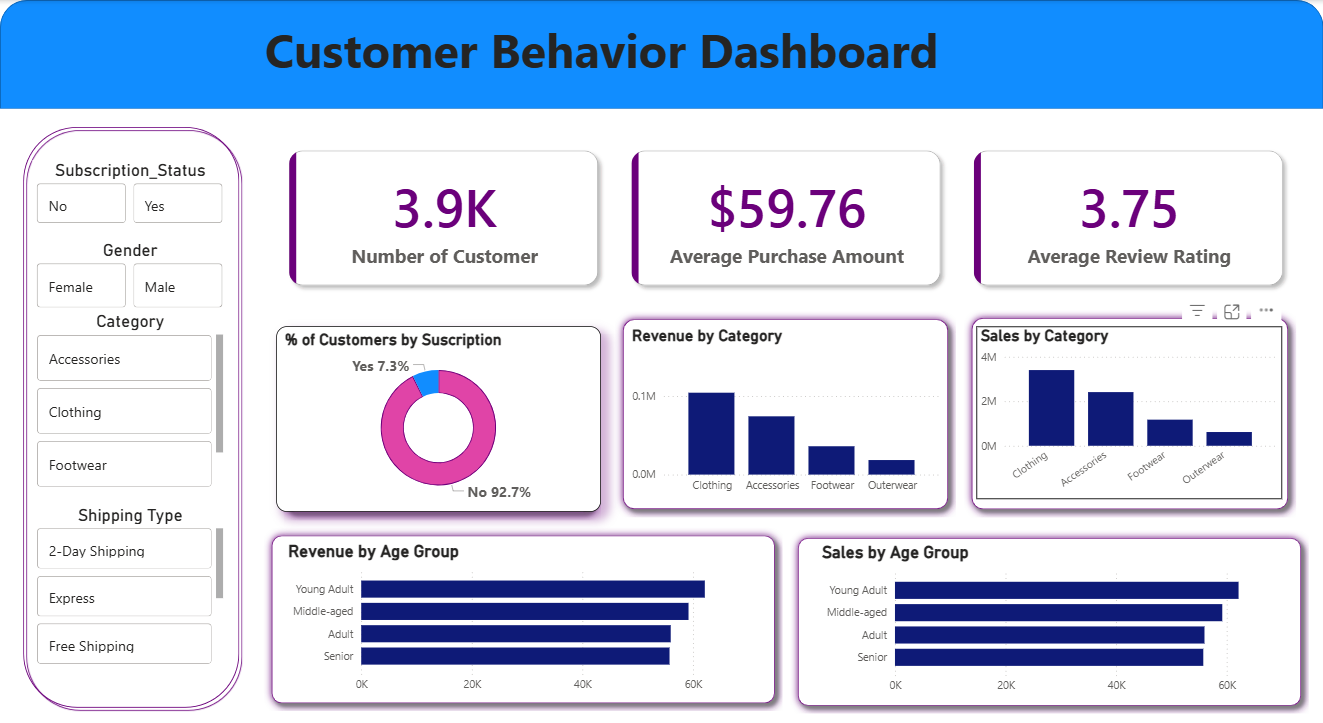

What the dashboard file says about the page in this screenshot:
{"tool":"powerbi","page":{"name":"Page 1","canvas":[1500,820],"ordinal":0},"visuals":[{"type":"cardVisual","fields":{"Data":["public customer.Number of Customer","public customer.Average Purchase Amount","public customer.Average Review Rating"]},"box":[298.3,141.7,1185,211.7],"z":0},{"type":"shape","box":[0,0,1500,123.3],"z":1000},{"type":"textbox","box":[83.3,0,1196.7,123.3],"z":2000},{"type":"shape","box":[313.3,370,368.3,220],"z":3000},{"type":"donutChart","title":"% of Customers by Suscription","fields":{"Category":["public customer.subscription_status"],"Y":["Sum(public customer.customer_id)"]},"box":[313.3,370,368.3,210],"z":4000},{"type":"shape","box":[1091.7,351.7,376.7,235],"z":5000},{"type":"shape","box":[696.7,353.3,386.7,233.3],"z":6000},{"type":"clusteredColumnChart","title":"Revenue by Category","fields":{"Category":["public customer.category"],"Y":["Sum(public customer.purchase_amount)"]},"box":[711.7,370,360,198.3],"z":7000},{"type":"clusteredColumnChart","title":"Sales by Category","fields":{"Category":["public customer.category"],"Y":["Sum(public customer.customer_id)"]},"box":[1106.7,370,346.7,196.7],"z":8000},{"type":"shape","box":[21.7,138.3,255,668.3],"z":9000},{"type":"advancedSlicerVisual","title":"Subscription_Status","fields":{"Values":["public customer.subscription_status"]},"box":[36.7,181.7,221.7,76.7],"z":10000},{"type":"advancedSlicerVisual","title":"Gender","fields":{"Values":["public customer.gender"]},"box":[36.7,271.7,221.7,81.7],"z":11000},{"type":"advancedSlicerVisual","title":"Category","fields":{"Values":["public customer.category"]},"box":[36.7,353.3,221.7,205],"z":12000},{"type":"advancedSlicerVisual","title":"Shipping  Type","fields":{"Values":["public customer.shipping_type"]},"box":[36.7,571.7,221.7,188.3],"z":13000},{"type":"shape","box":[298.3,598.3,588.3,208.3],"z":14000},{"type":"clusteredBarChart","title":"Revenue by Age Group","fields":{"Category":["public customer.age_group"],"Y":["Sum(public customer.purchase_amount)"]},"box":[321.7,613.3,541.7,180],"z":15000},{"type":"shape","box":[895,600,588.3,208.3],"z":16000},{"type":"clusteredBarChart","title":"Sales by Age Group","fields":{"Category":["public customer.age_group"],"Y":["Sum(public customer.purchase_amount)"]},"box":[926.7,615,541.7,180],"z":17000}]}

Visuals, with their boxes in screenshot pixels (x1, y1, x2, y2), scaled from the page's 1500x820 canvas onto the 1323x723 screenshot:
cardVisual - public customer.Number of Customer x public customer.Average Purchase Amount: {"left": 263, "top": 125, "right": 1308, "bottom": 312}
shape: {"left": 0, "top": 0, "right": 1322, "bottom": 109}
textbox: {"left": 73, "top": 0, "right": 1129, "bottom": 109}
shape: {"left": 276, "top": 326, "right": 601, "bottom": 520}
"% of Customers by Suscription" donutChart: {"left": 276, "top": 326, "right": 601, "bottom": 511}
shape: {"left": 963, "top": 310, "right": 1295, "bottom": 517}
shape: {"left": 614, "top": 312, "right": 956, "bottom": 517}
"Revenue by Category" clusteredColumnChart: {"left": 628, "top": 326, "right": 945, "bottom": 501}
"Sales by Category" clusteredColumnChart: {"left": 976, "top": 326, "right": 1282, "bottom": 500}
shape: {"left": 19, "top": 122, "right": 244, "bottom": 711}
"Subscription_Status" advancedSlicerVisual: {"left": 32, "top": 160, "right": 228, "bottom": 228}
"Gender" advancedSlicerVisual: {"left": 32, "top": 240, "right": 228, "bottom": 312}
"Category" advancedSlicerVisual: {"left": 32, "top": 312, "right": 228, "bottom": 492}
"Shipping  Type" advancedSlicerVisual: {"left": 32, "top": 504, "right": 228, "bottom": 670}
shape: {"left": 263, "top": 528, "right": 782, "bottom": 711}
"Revenue by Age Group" clusteredBarChart: {"left": 284, "top": 541, "right": 762, "bottom": 699}
shape: {"left": 789, "top": 529, "right": 1308, "bottom": 713}
"Sales by Age Group" clusteredBarChart: {"left": 817, "top": 542, "right": 1295, "bottom": 701}
